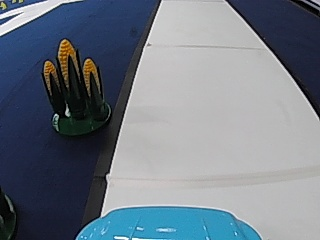corn: (39, 35, 115, 135)
